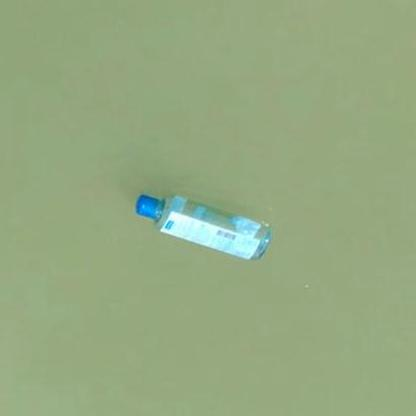plastic bottle: (135, 191, 272, 262)
